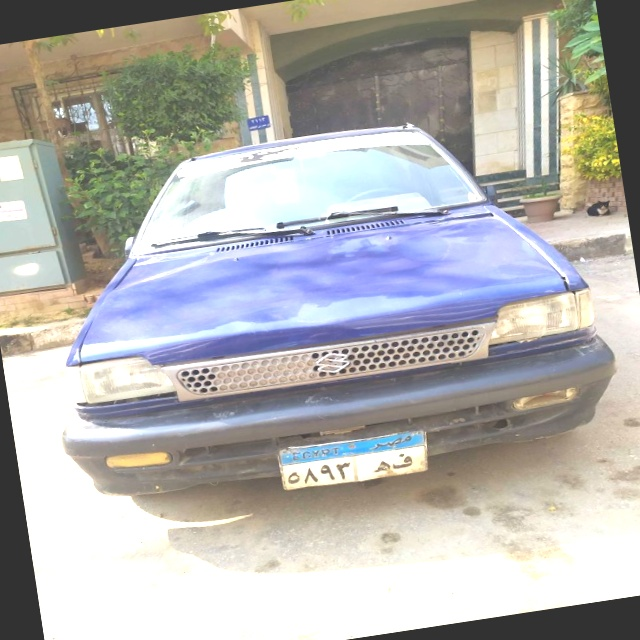License Plate: (274, 424, 436, 498)
